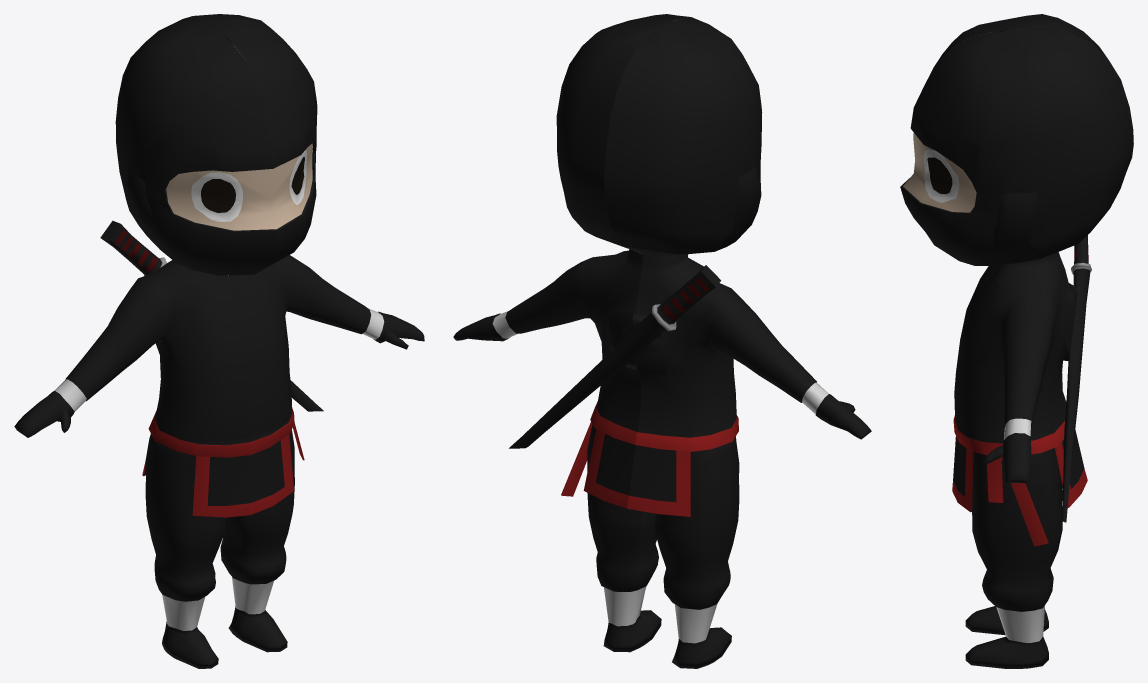
The model's file is Ninja FBX.fbx.
3 views of the same model, side by side, from view 1: azimuth 30°, elevation 25°; view 2: azimuth 150°, elevation 25°; view 3: azimuth 270°, elevation 25° (orthographic).
Parts seen in each view (by area): view 1: Personagem; view 2: Personagem; view 3: Personagem.
Part boxes in pixels (left/top/right/bottom): Personagem: left=14, top=14, right=424, bottom=668; Personagem: left=453, top=14, right=871, bottom=668; Personagem: left=900, top=14, right=1133, bottom=668.
Size of the model in its own units: 8.56 by 12.44 by 4.28.
